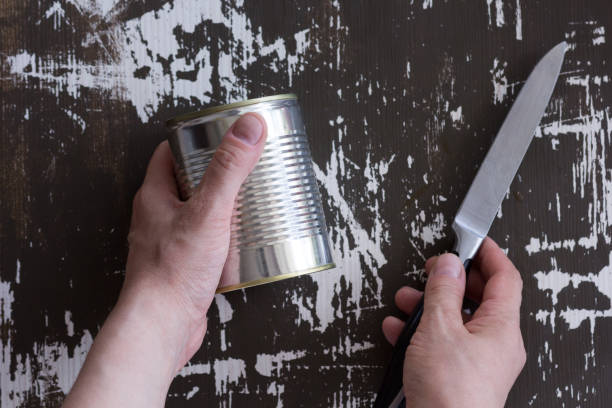knife: (372, 42, 572, 408)
